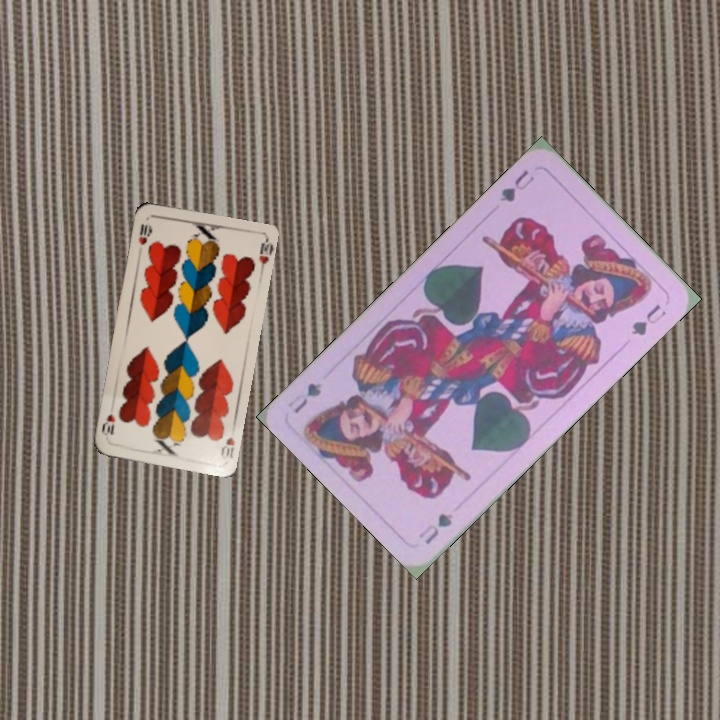GU: (495, 166, 537, 205), (414, 509, 456, 547)
H10: (217, 433, 237, 462), (135, 220, 154, 247)
